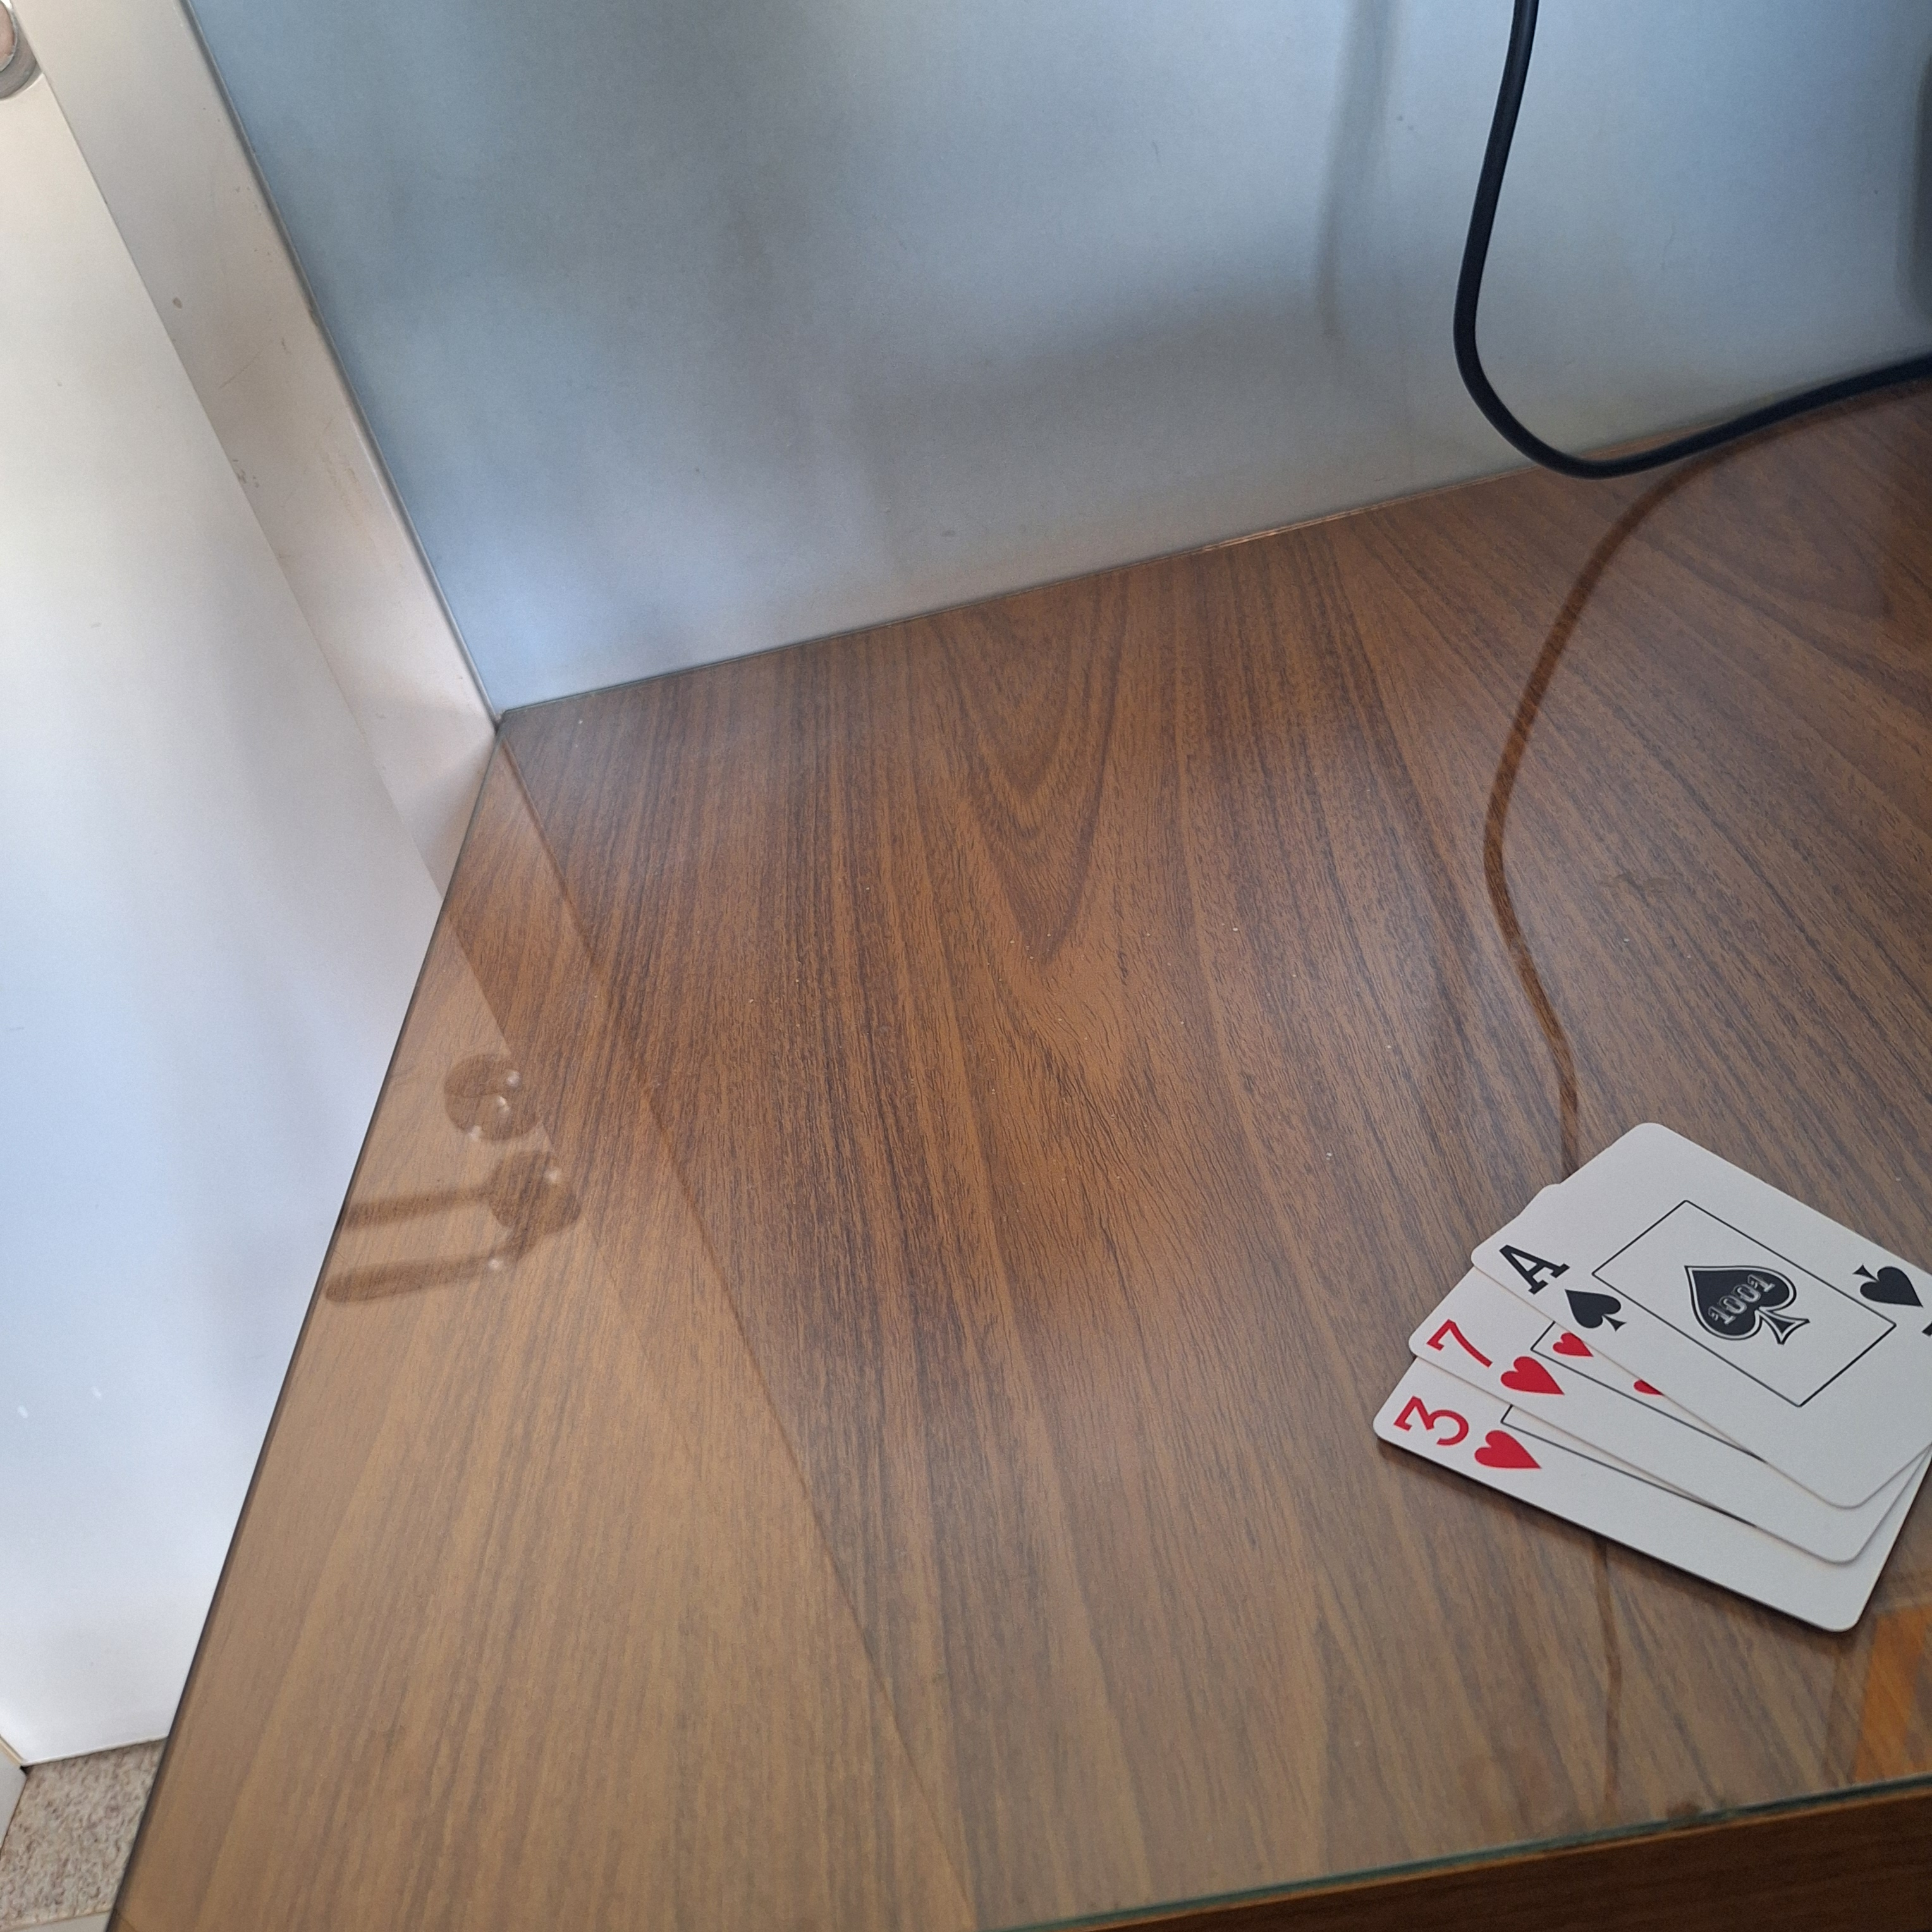3C: (1376, 1389, 1548, 1479)
7C: (1414, 1311, 1573, 1405)
AE: (1484, 1230, 1649, 1338)
